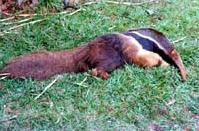TamanduaBandeira: (8, 29, 189, 86)
